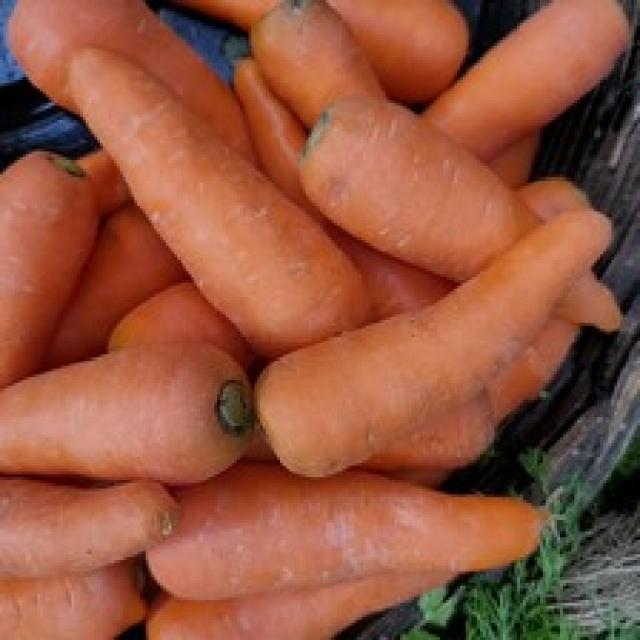Fresh_Carrot: (59, 57, 334, 299), (332, 224, 630, 441), (188, 466, 536, 566)
